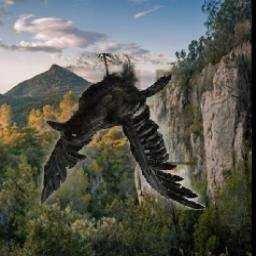Crow: (38, 54, 205, 211)
